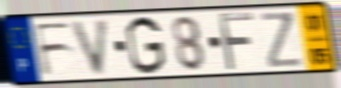8: (170, 13, 207, 74)
F: (216, 11, 257, 74), (31, 20, 74, 79)
G: (124, 14, 168, 76)
V: (69, 17, 112, 77)
Z: (258, 10, 306, 70)
